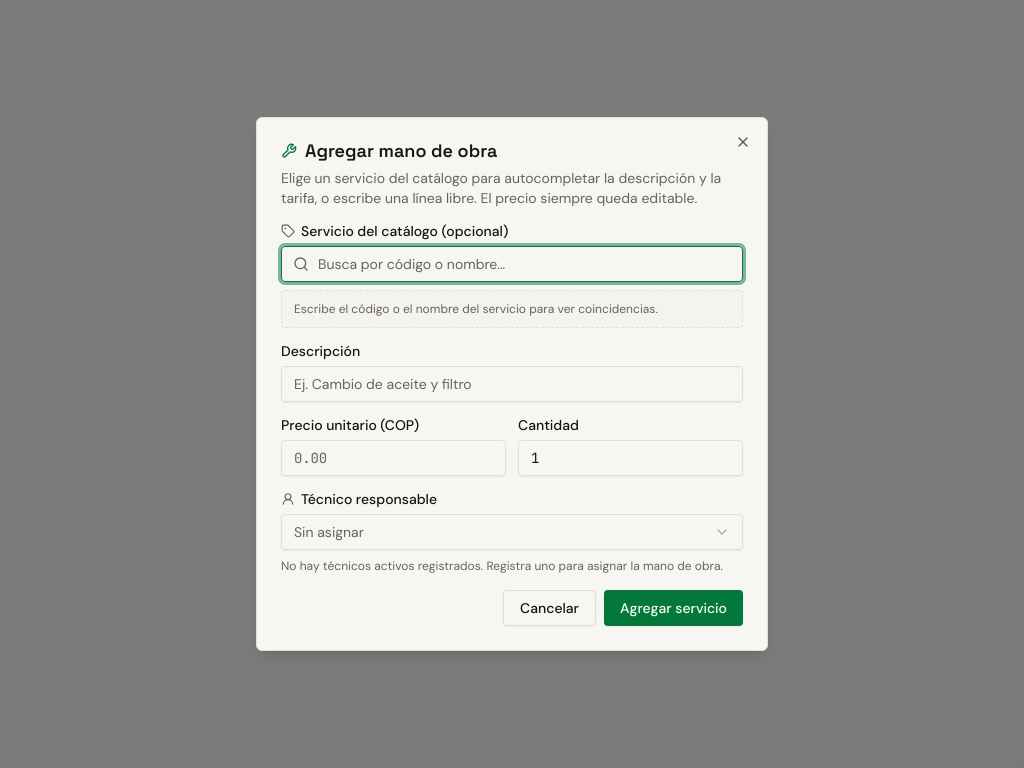
Test: AddLaborDialog › rejects a missing price with a Spanish error and does not save
Type "Ajuste de frenos" into the field with test id "order_detail.add_labor.description_input" at x=512, y=384, box left=281, top=366, right=743, bottom=402
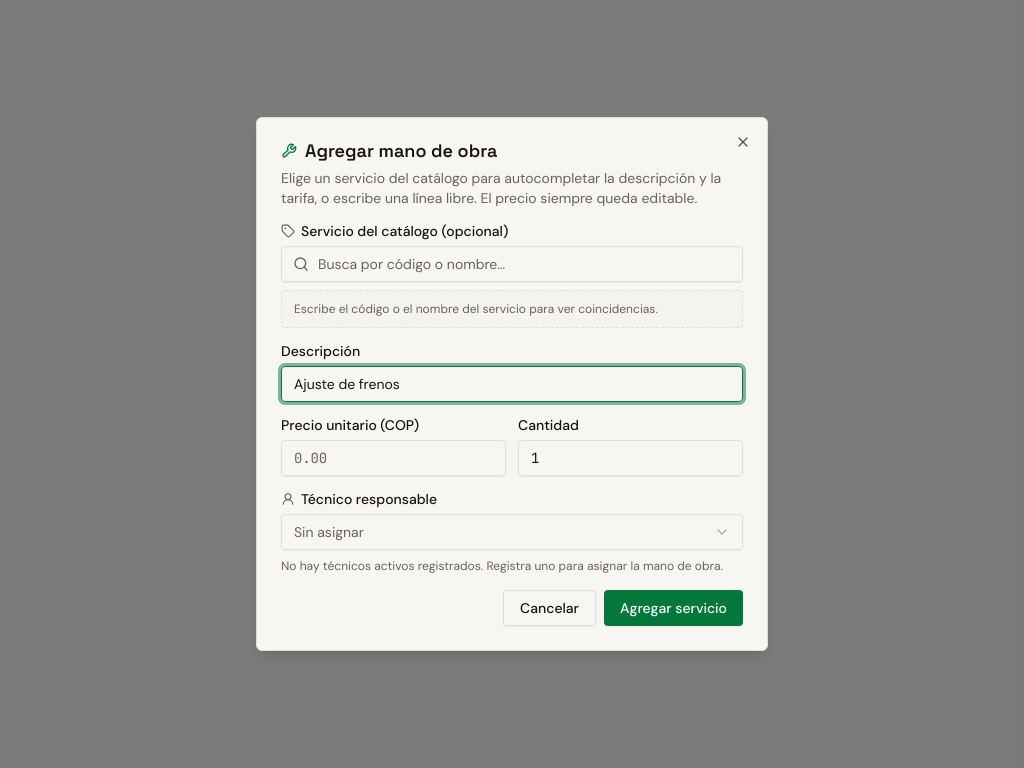
Click the button with test id "order_detail.add_labor.submit_button" at x=674, y=608, box left=604, top=590, right=743, bottom=626
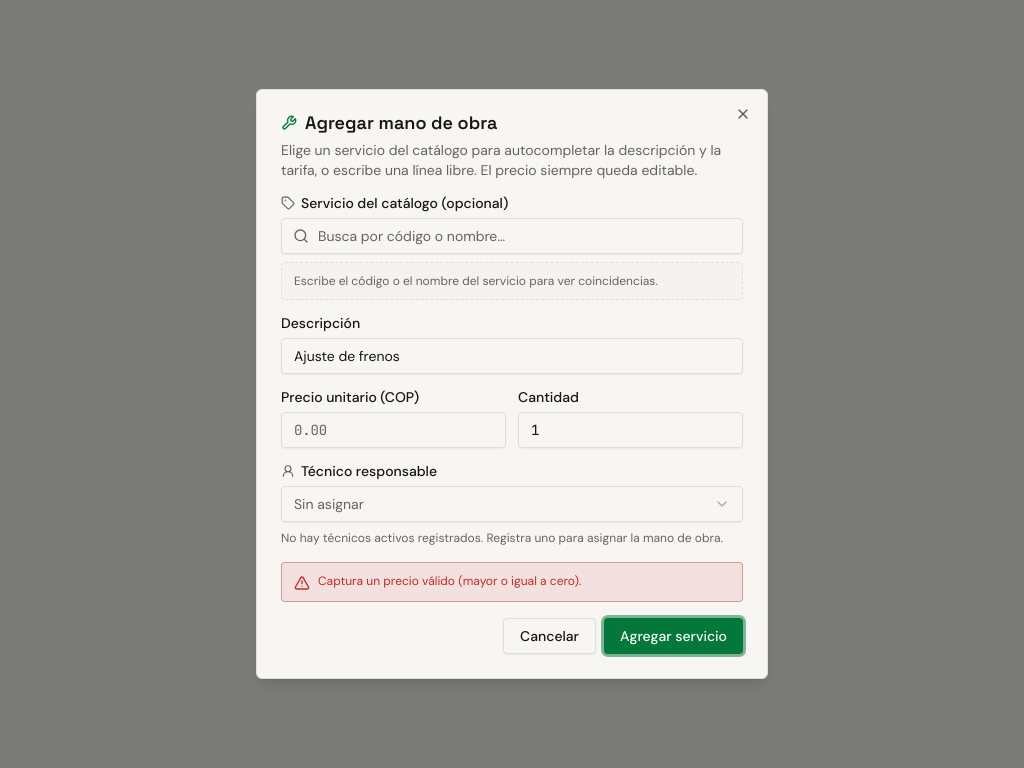
expect the element with test id "order_detail.add_labor.error_state" reads "Captura un precio válido (mayor o igual a cero).": met, box left=318, top=573, right=581, bottom=589
